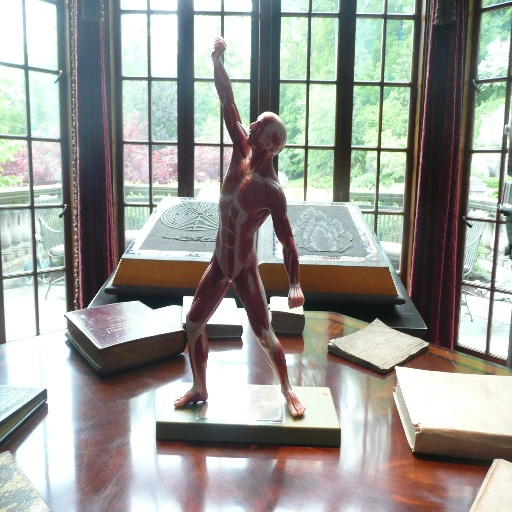hand: (287, 281, 305, 308), (209, 33, 226, 59)
